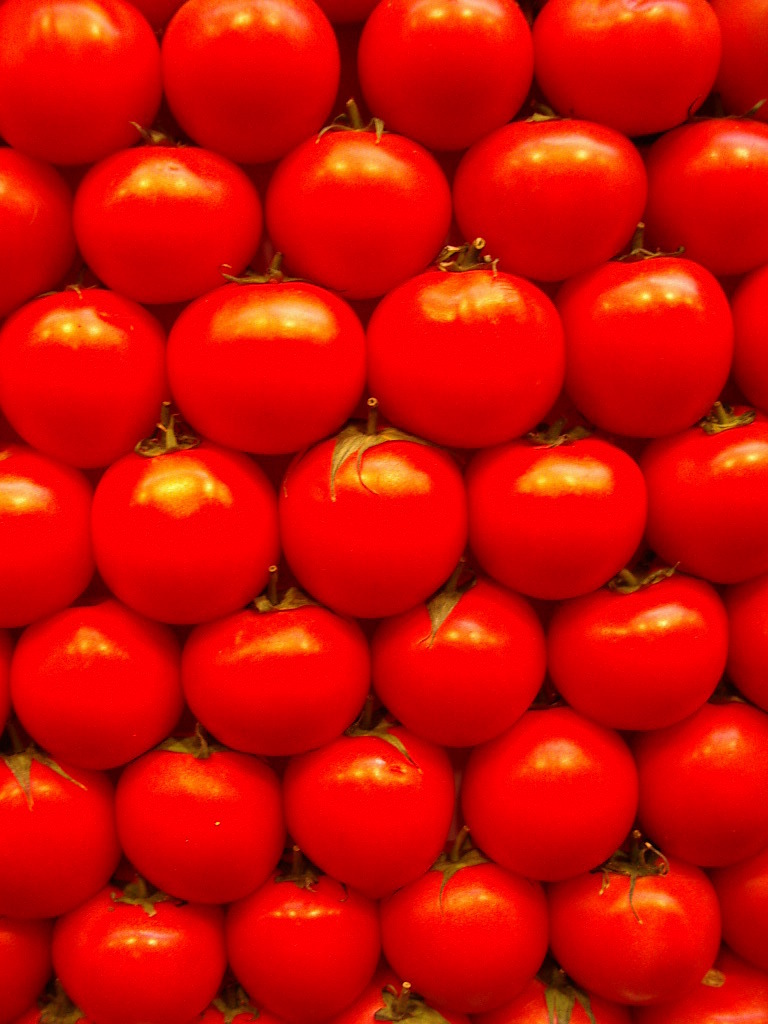Tomato: (0, 0, 767, 1022), (464, 709, 651, 878)
